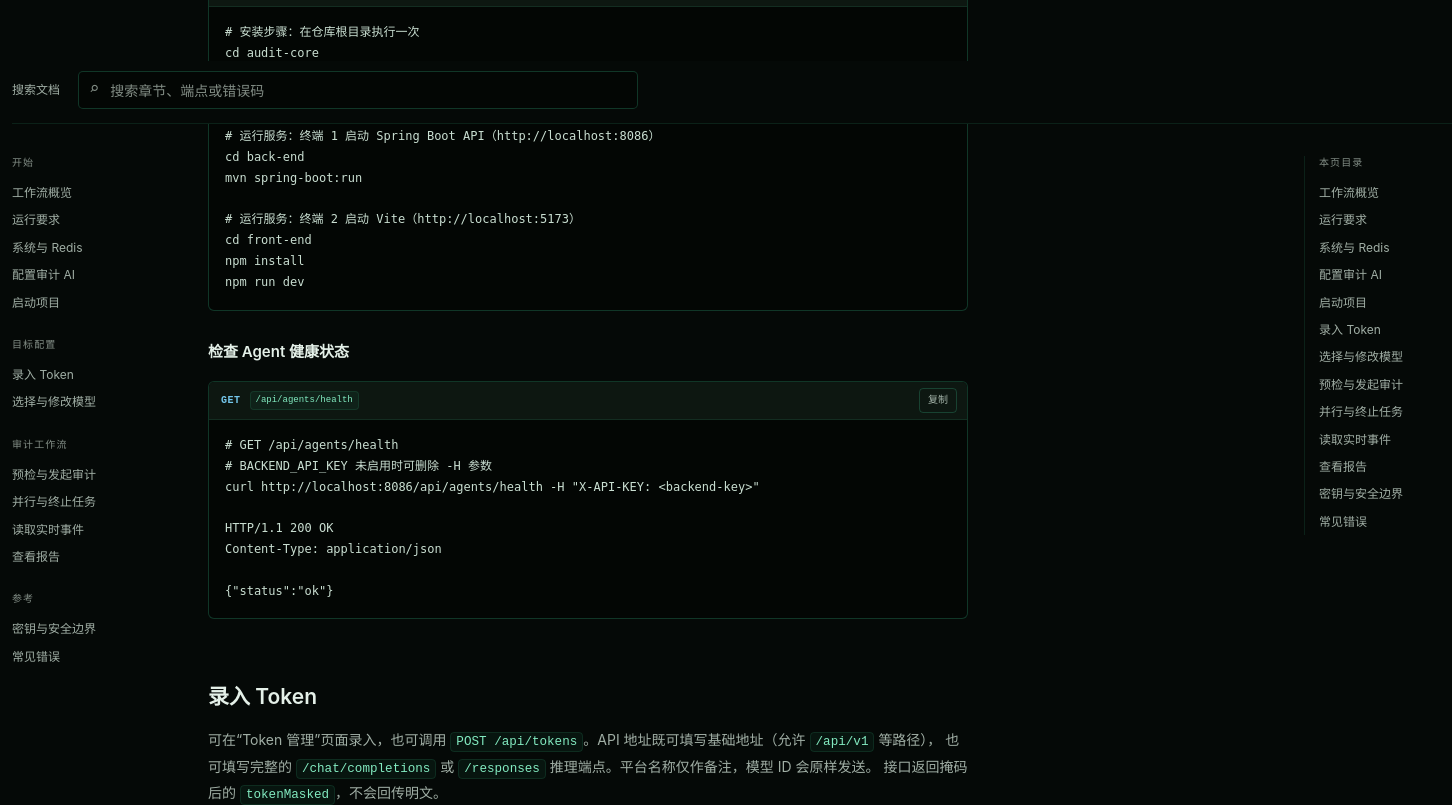
Test: GuideView › copies code and reports success accessibly
The width and height of the screenshot is (1452, 805).
(page scrolled)
Click the 2nd button "复制" at (938, 400), box [919,388,957,413]
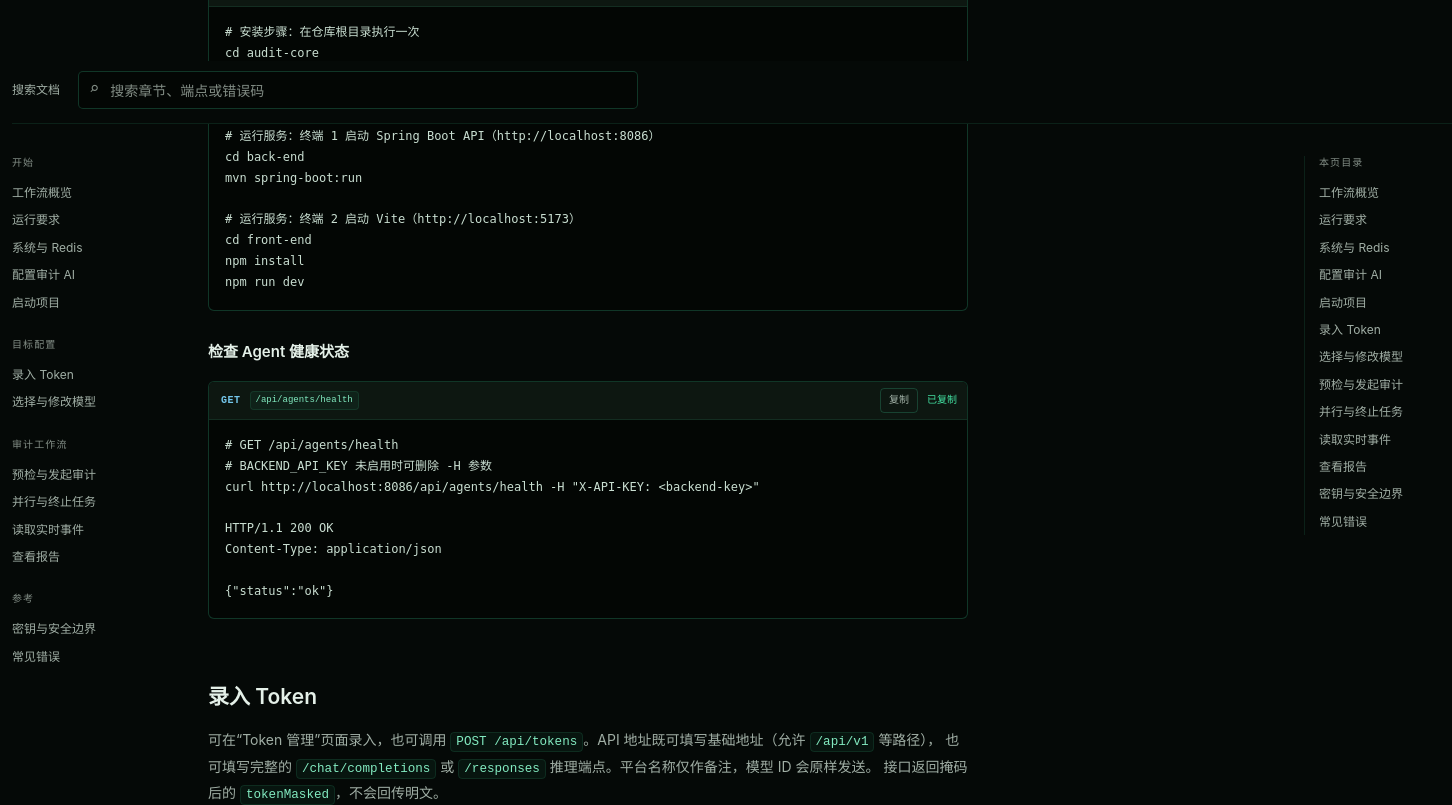
Check: the message "已复制" is shown, box [927,393,957,408]
